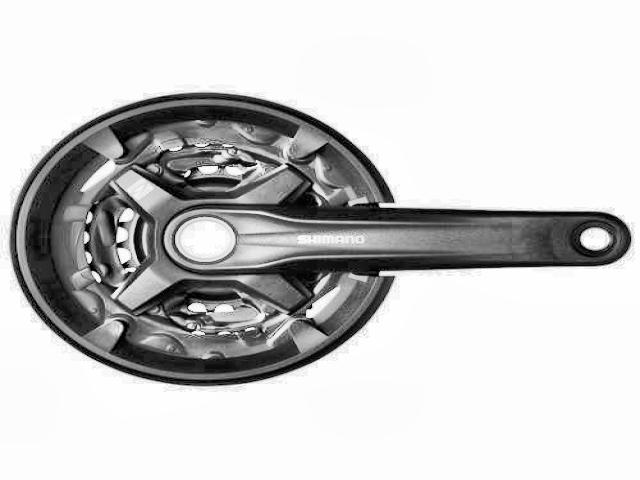cranks_set: (8, 88, 632, 388)
